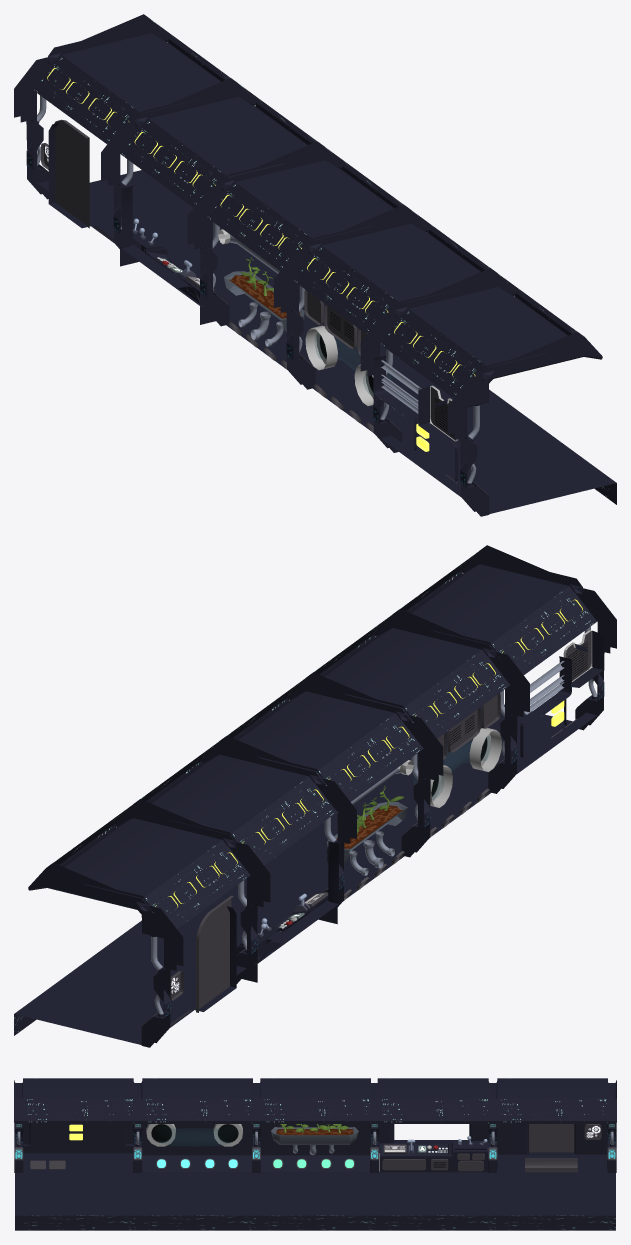
File: corridor.glb
The picture shows the model from 3 angles, top to bottom: view 1: azimuth 30°, elevation 25°; view 2: azimuth 150°, elevation 25°; view 3: azimuth 270°, elevation 25°; orthographic projection. The views are drawn at different scales.
Parts seen in each view (by area): view 1: g (×31); view 2: g (×30); view 3: g (×38).
Part boxes in pixels (<box>): g (×31): <box>14,14,616,516</box>; g (×30): <box>14,545,616,1047</box>; g (×38): <box>14,1078,616,1230</box>.
Size of the model in its own units: 0.423 by 0.4384 by 1.98.
Materials: 16 (16 with a texture image).
